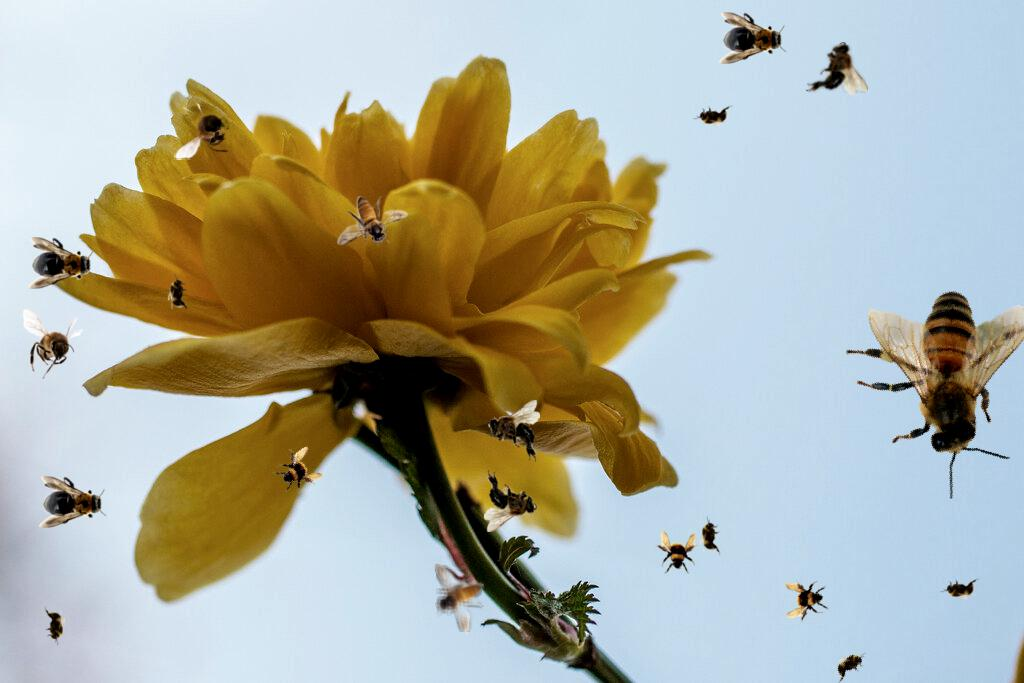Bee: (807, 236, 1024, 516), (23, 309, 84, 379), (174, 99, 244, 160), (266, 439, 328, 501), (434, 563, 484, 634), (337, 196, 408, 246), (28, 237, 96, 289), (39, 476, 107, 528), (719, 12, 787, 64), (484, 470, 537, 532), (487, 400, 540, 462), (806, 42, 868, 95), (781, 576, 831, 626), (654, 530, 698, 574), (827, 645, 873, 683), (167, 273, 189, 313), (699, 516, 721, 556), (44, 606, 66, 646), (940, 578, 980, 600), (693, 105, 733, 127)
